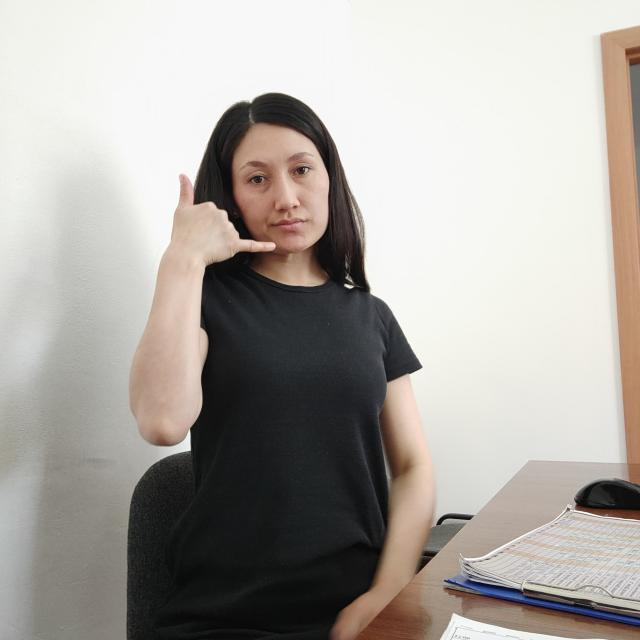call: (162, 168, 281, 274)
